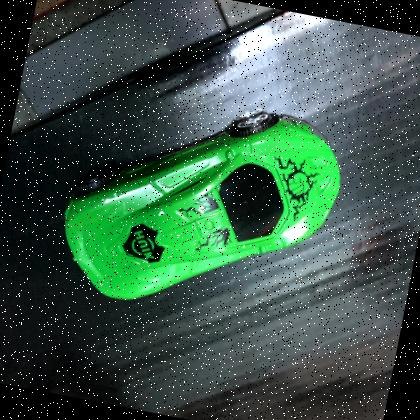Car: (63, 111, 341, 300)
